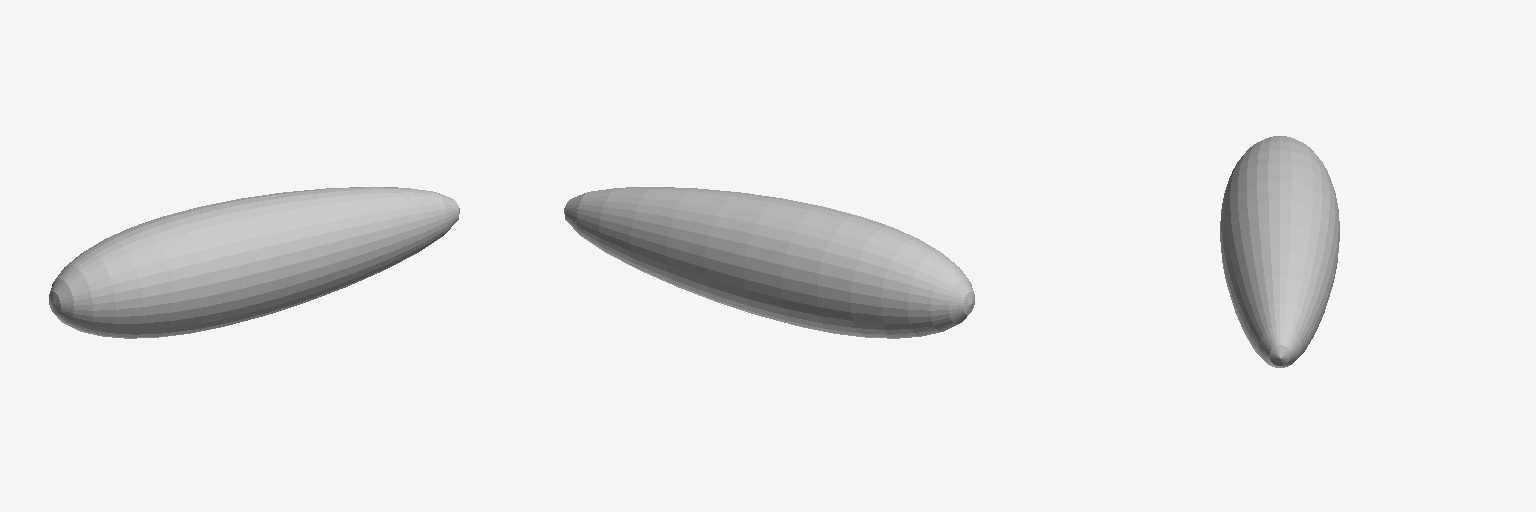
File: Cow.obj
3 renders of one model, left to right at view 1: azimuth 30°, elevation 25°; view 2: azimuth 150°, elevation 25°; view 3: azimuth 270°, elevation 25°, orthographic.
Visible parts, largest first — view 1: Sphere_Sphere.001; view 2: Sphere_Sphere.001; view 3: Sphere_Sphere.001.
Part boxes in pixels (x1,y1,x2,y2): Sphere_Sphere.001: (49, 187, 459, 338); Sphere_Sphere.001: (564, 187, 974, 338); Sphere_Sphere.001: (1220, 136, 1339, 367).
Size of the model in its own units: 5.63 by 1.48 by 1.44.